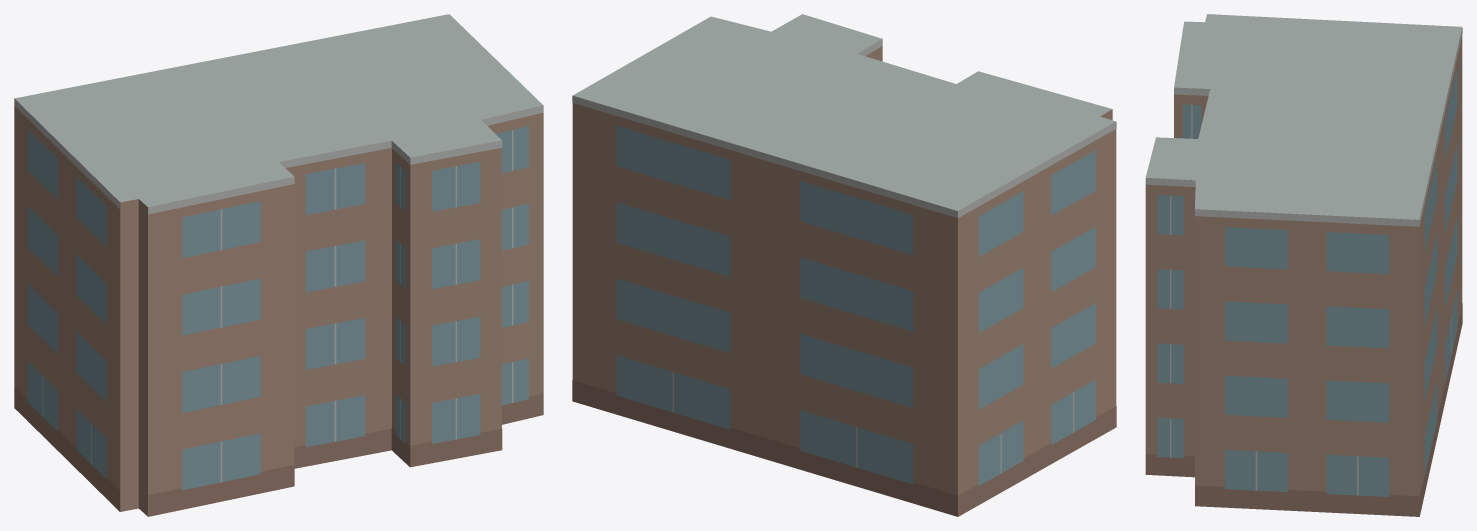
Rendered from survey-upis-32523157.glb.
The picture shows the model from 3 angles, left to right: view 1: azimuth 30°, elevation 25°; view 2: azimuth 150°, elevation 25°; view 3: azimuth 270°, elevation 25°; orthographic projection. The views are drawn at different scales.
Parts seen in each view (by area): view 1: survey-upis-32523157.tmp; view 2: survey-upis-32523157.tmp; view 3: survey-upis-32523157.tmp.
Boxes of the visible parts, bbox=[...] form: survey-upis-32523157.tmp: bbox=[14, 14, 543, 516]; survey-upis-32523157.tmp: bbox=[572, 14, 1116, 516]; survey-upis-32523157.tmp: bbox=[1145, 14, 1462, 516].
Bounding box in the file's own units: 15.63 × 10.5 × 10.17.
